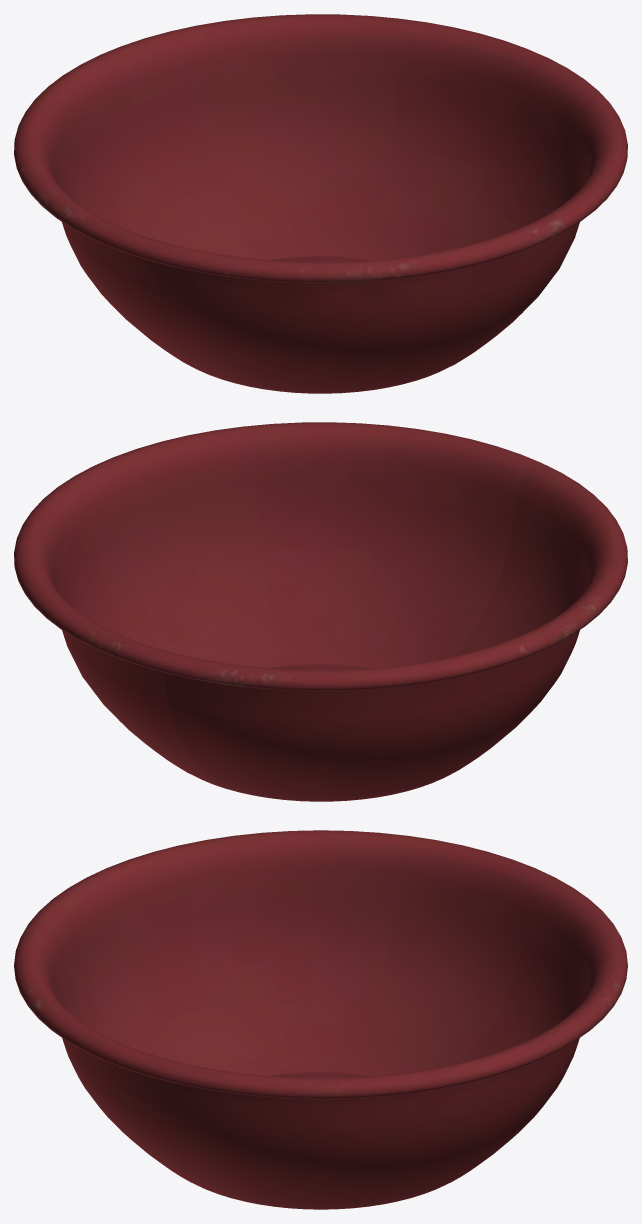
The model's file is sr_dishware_bowl_a01.glb.
The picture shows the model from 3 angles, top to bottom: view 1: azimuth 30°, elevation 25°; view 2: azimuth 150°, elevation 25°; view 3: azimuth 270°, elevation 25°; orthographic projection.
Visible parts, largest first — view 1: dishware_bowl_a01_mesh_00_1; view 2: dishware_bowl_a01_mesh_00_1; view 3: dishware_bowl_a01_mesh_00_1.
Part boxes in pixels (x1,y1,x2,y2): dishware_bowl_a01_mesh_00_1: (14, 14, 627, 393); dishware_bowl_a01_mesh_00_1: (14, 422, 627, 801); dishware_bowl_a01_mesh_00_1: (14, 830, 627, 1209).
Bounding box in the file's own units: 0.1627 × 0.0548 × 0.1627.
1 material, 1 textured.
